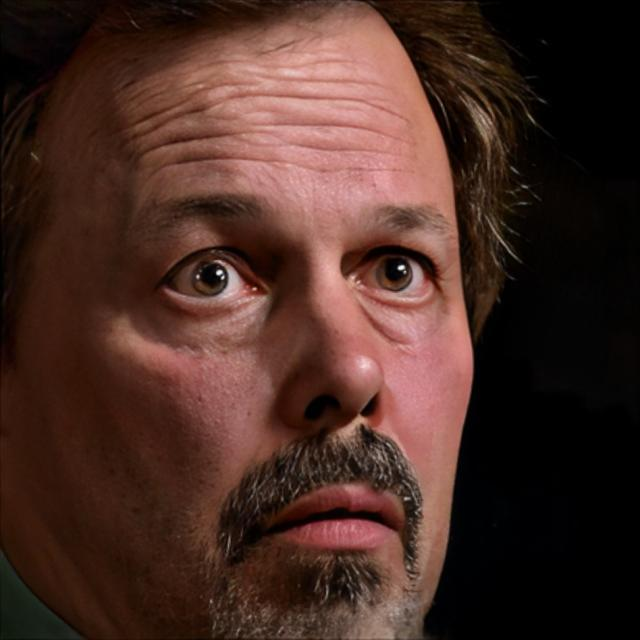Fear: (0, 2, 477, 640)
